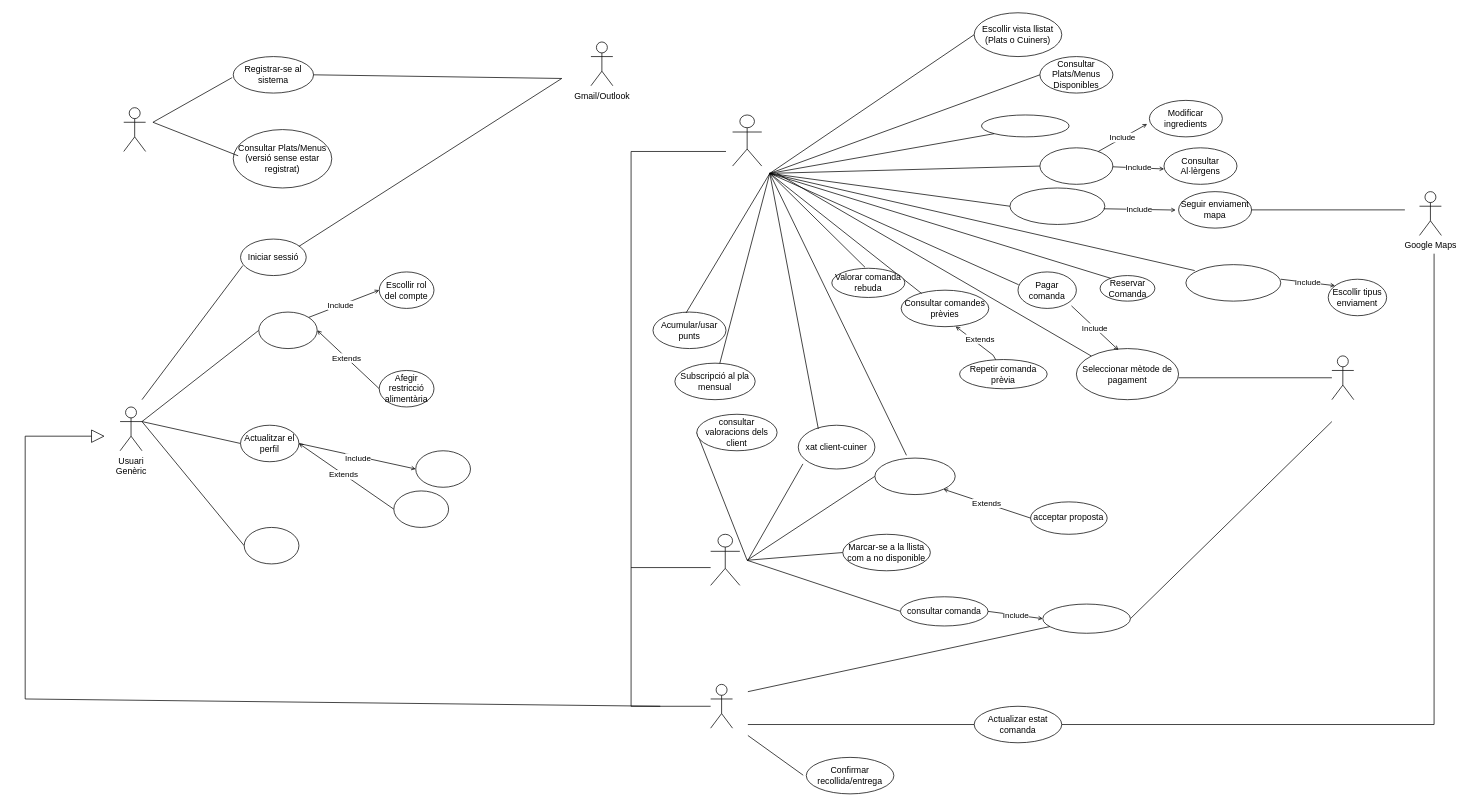
Image size: 1469x807. Some labels were removed from this diagram. Each missing label, with the box of its shape:
Actualitzar restriccions alimentàries: (393, 490, 449, 527)
Cercar Cuiner/Plat: (981, 114, 1069, 137)
Client: (732, 114, 762, 166)
Configurar el perfil: (258, 311, 317, 349)
Consultar estat comanda: (1009, 187, 1105, 224)
Cuiner: (710, 534, 740, 585)
Eliminar perfil: (243, 527, 299, 564)
Fer i enviar comanda: (1185, 264, 1281, 301)
Modificar rol del perfil: (415, 450, 470, 487)
rebre ingrés: (1042, 603, 1130, 633)
Repartidor: (710, 684, 733, 728)
Seleccionar plat: (1039, 147, 1113, 184)
Targeta Bancària / PayPal: (1331, 355, 1354, 400)
veure menú amb propostes: (874, 457, 955, 495)
visitant: (123, 107, 146, 151)
